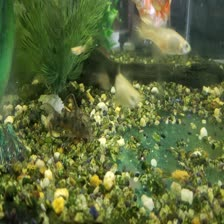Guppy: (129, 22, 195, 53), (109, 68, 143, 112)
Kiros: (35, 94, 103, 153)
